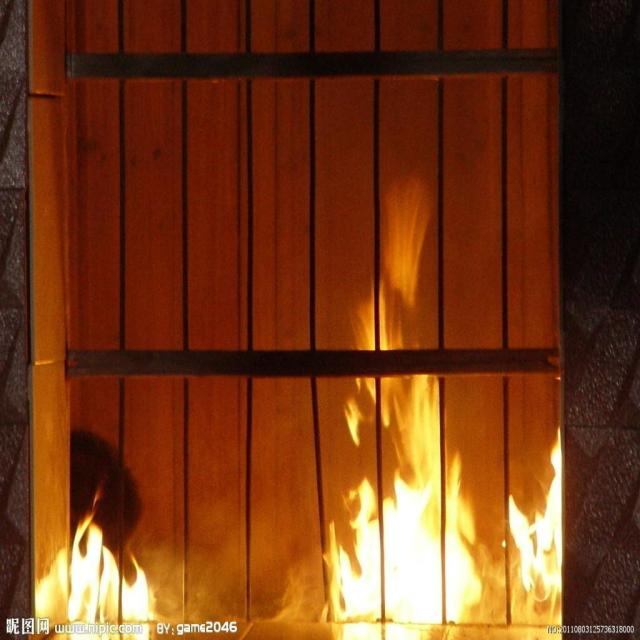fire: (335, 171, 482, 637), (500, 411, 562, 613), (70, 503, 154, 627)
